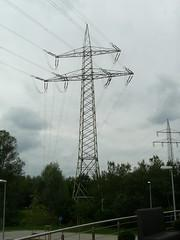power_tower: (29, 18, 134, 216), (150, 117, 180, 174)
